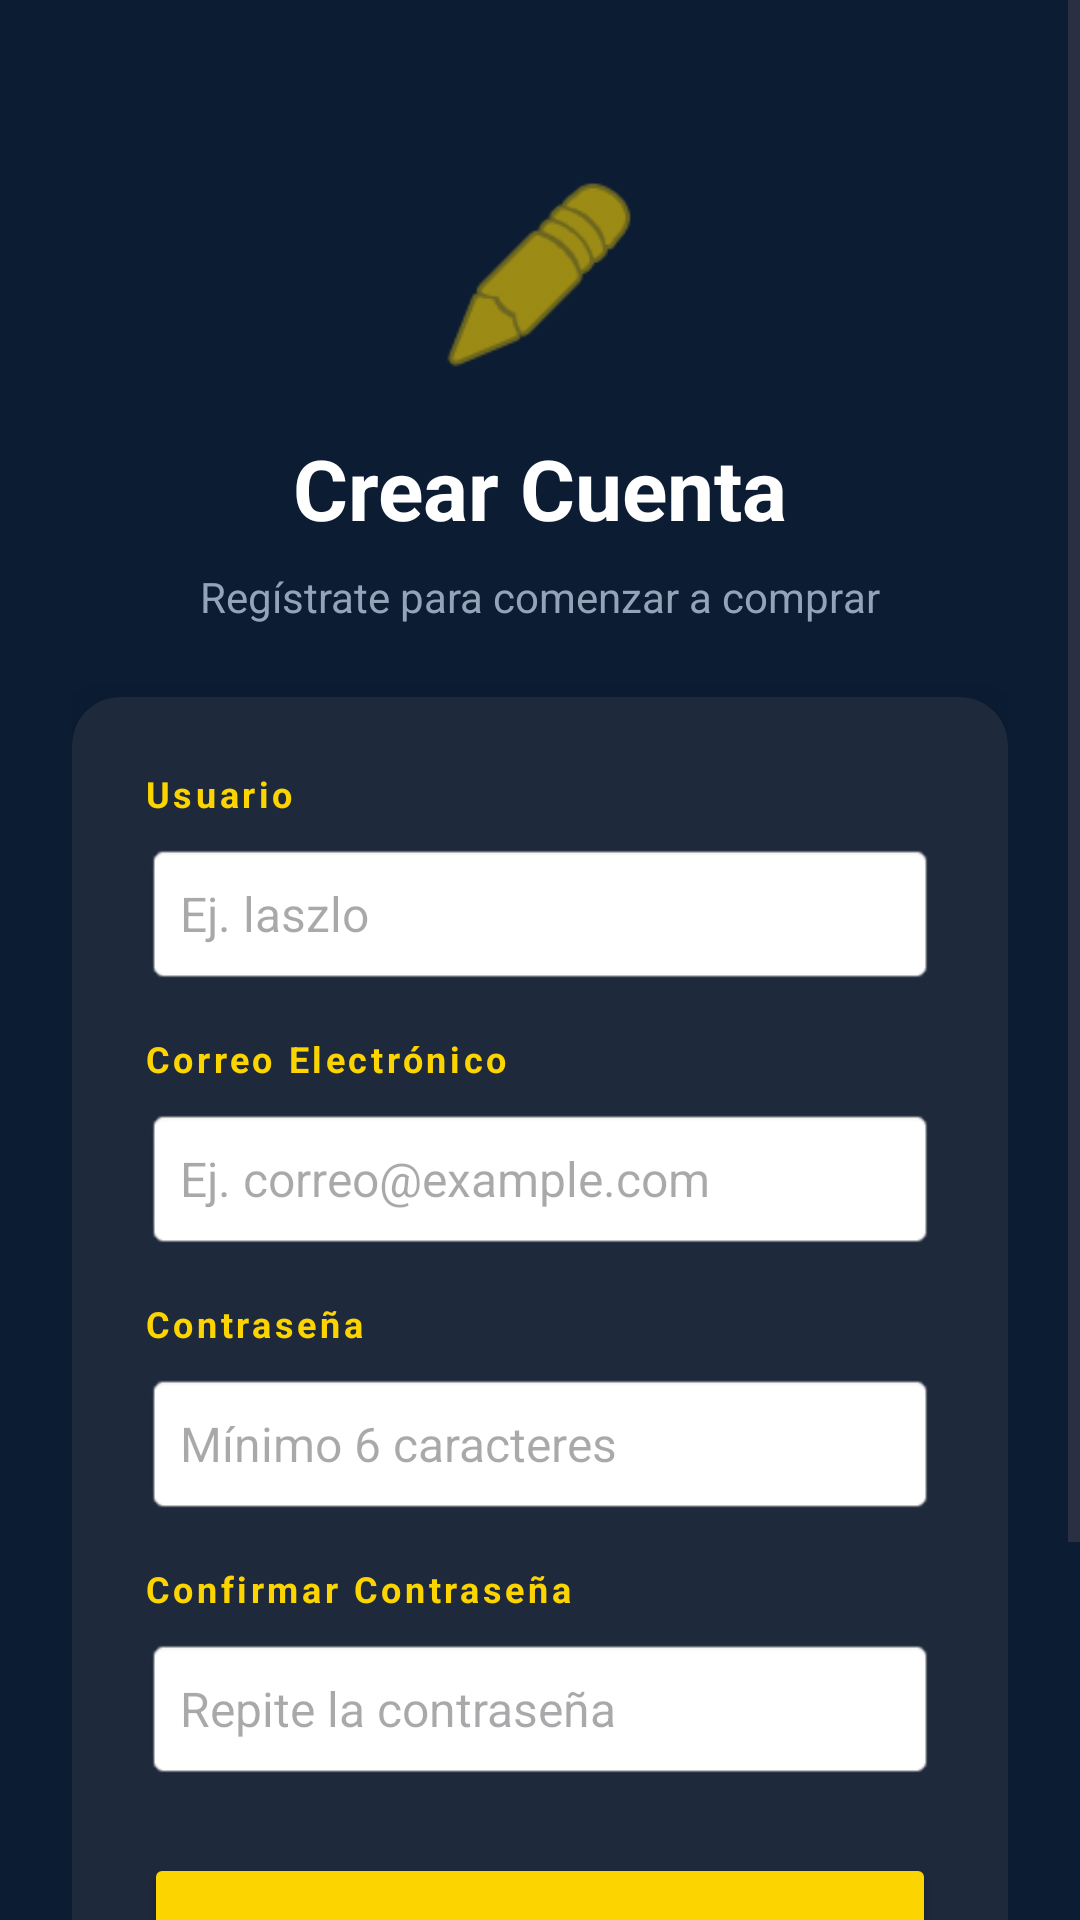

Point at icon controls on the screen. Image size 1080 x 1920, points as [x,y].
edit: [539,274]
